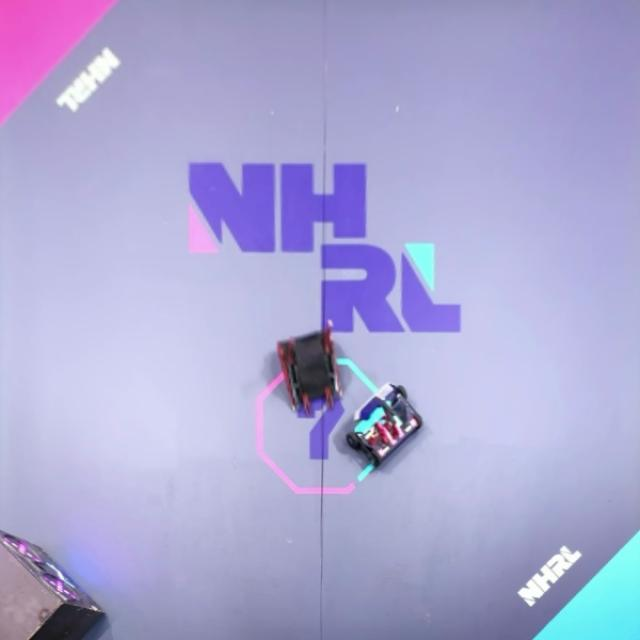housebot: (0, 528, 107, 640)
robot: (346, 380, 425, 470), (278, 321, 344, 417)
